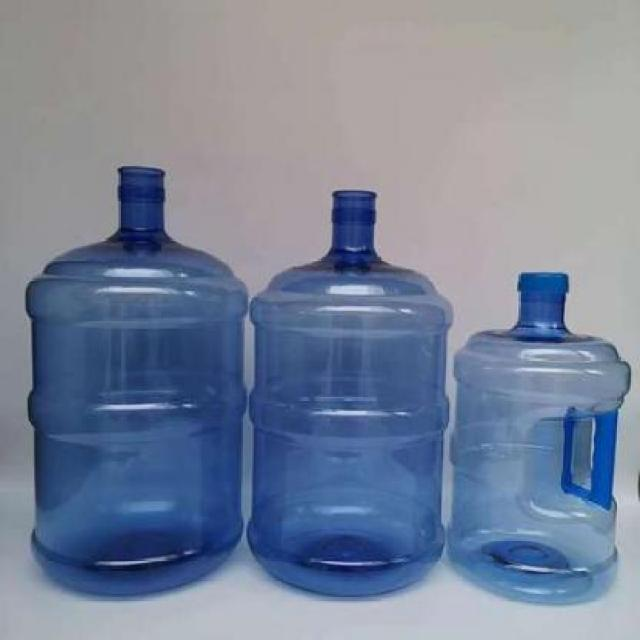coolerbottle: (20, 160, 253, 602), (247, 183, 458, 602), (448, 269, 637, 609)
